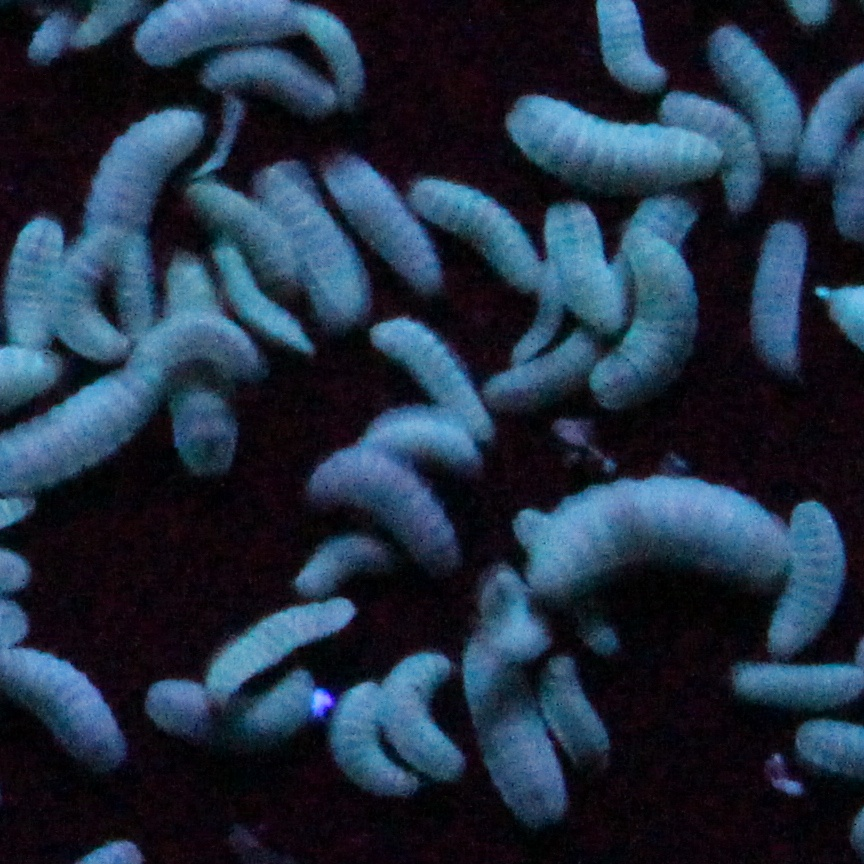larve: (521, 475, 792, 601), (502, 94, 721, 185), (464, 635, 571, 818), (592, 232, 698, 403), (321, 158, 448, 296), (204, 601, 361, 708), (85, 105, 205, 240), (312, 461, 464, 565), (378, 318, 502, 442), (411, 180, 543, 289), (142, 675, 316, 747), (762, 496, 837, 655), (378, 644, 466, 778), (709, 28, 793, 159), (193, 182, 300, 282), (540, 206, 621, 335), (56, 232, 139, 355), (326, 689, 419, 797), (748, 213, 805, 380), (543, 647, 614, 780), (198, 54, 333, 110), (7, 208, 58, 343)
